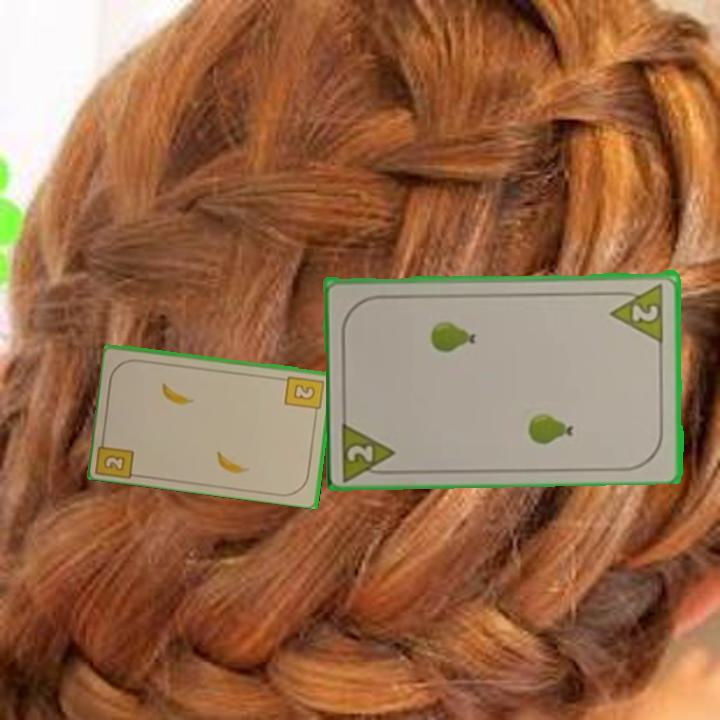2b: (94, 431, 137, 480), (282, 372, 327, 418)
2p: (338, 416, 400, 481), (607, 279, 667, 343)
